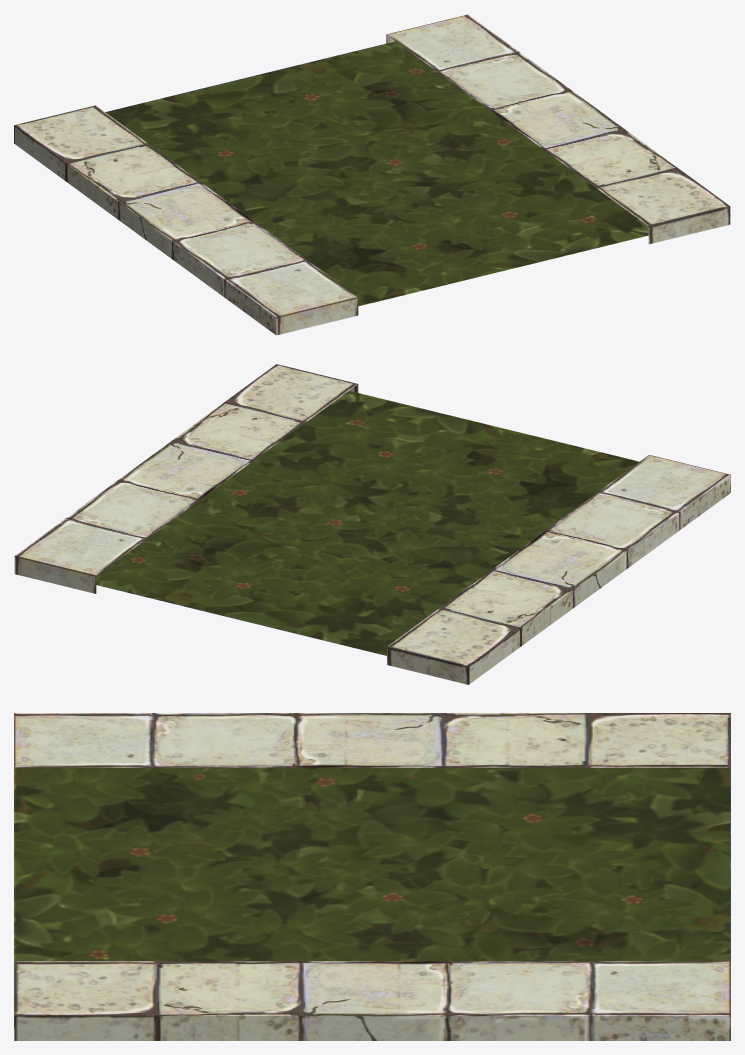
Rendered from walkable tiles regular v1.FBX.
3 views of the same model, one above another, from view 1: azimuth 30°, elevation 25°; view 2: azimuth 150°, elevation 25°; view 3: azimuth 270°, elevation 25° (orthographic). The views are drawn at different scales.
Parts seen in each view (by area): view 1: Box158; view 2: Box158; view 3: Box158.
Part boxes in pixels (x1=…): Box158: x1=14, y1=14, x2=730, y2=335; Box158: x1=14, y1=364, x2=730, y2=684; Box158: x1=14, y1=713, x2=730, y2=1040.
Bounding box in the file's own units: 74.15 × 2.84 × 74.11.
Materials: 1 (1 with a texture image).
